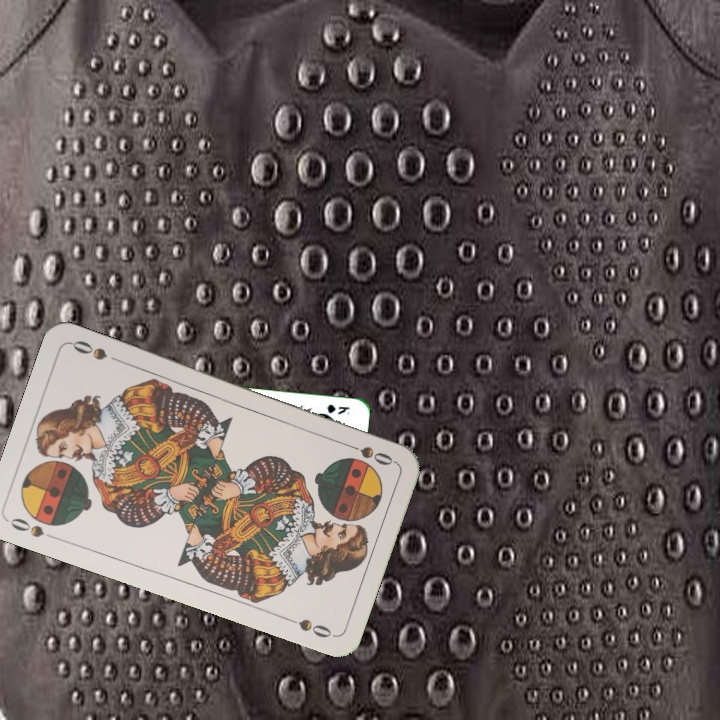GK: (323, 400, 352, 417)
SO: (339, 438, 397, 468), (6, 513, 61, 544)
